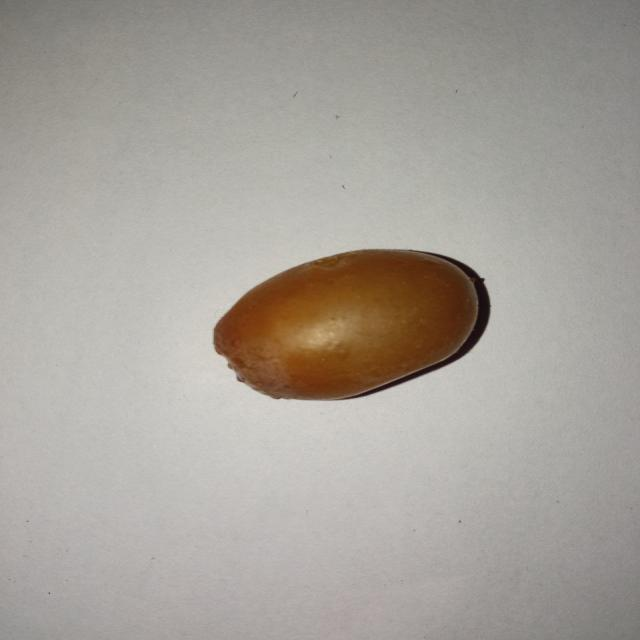rotten_grape: (213, 249, 480, 404)
